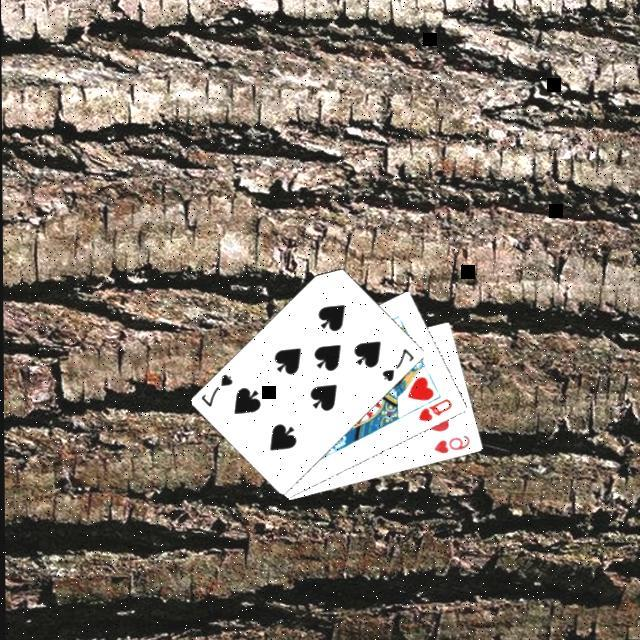6H: (432, 434, 474, 458)
7S: (379, 346, 417, 386), (198, 372, 236, 412)
QH: (416, 397, 456, 426)
